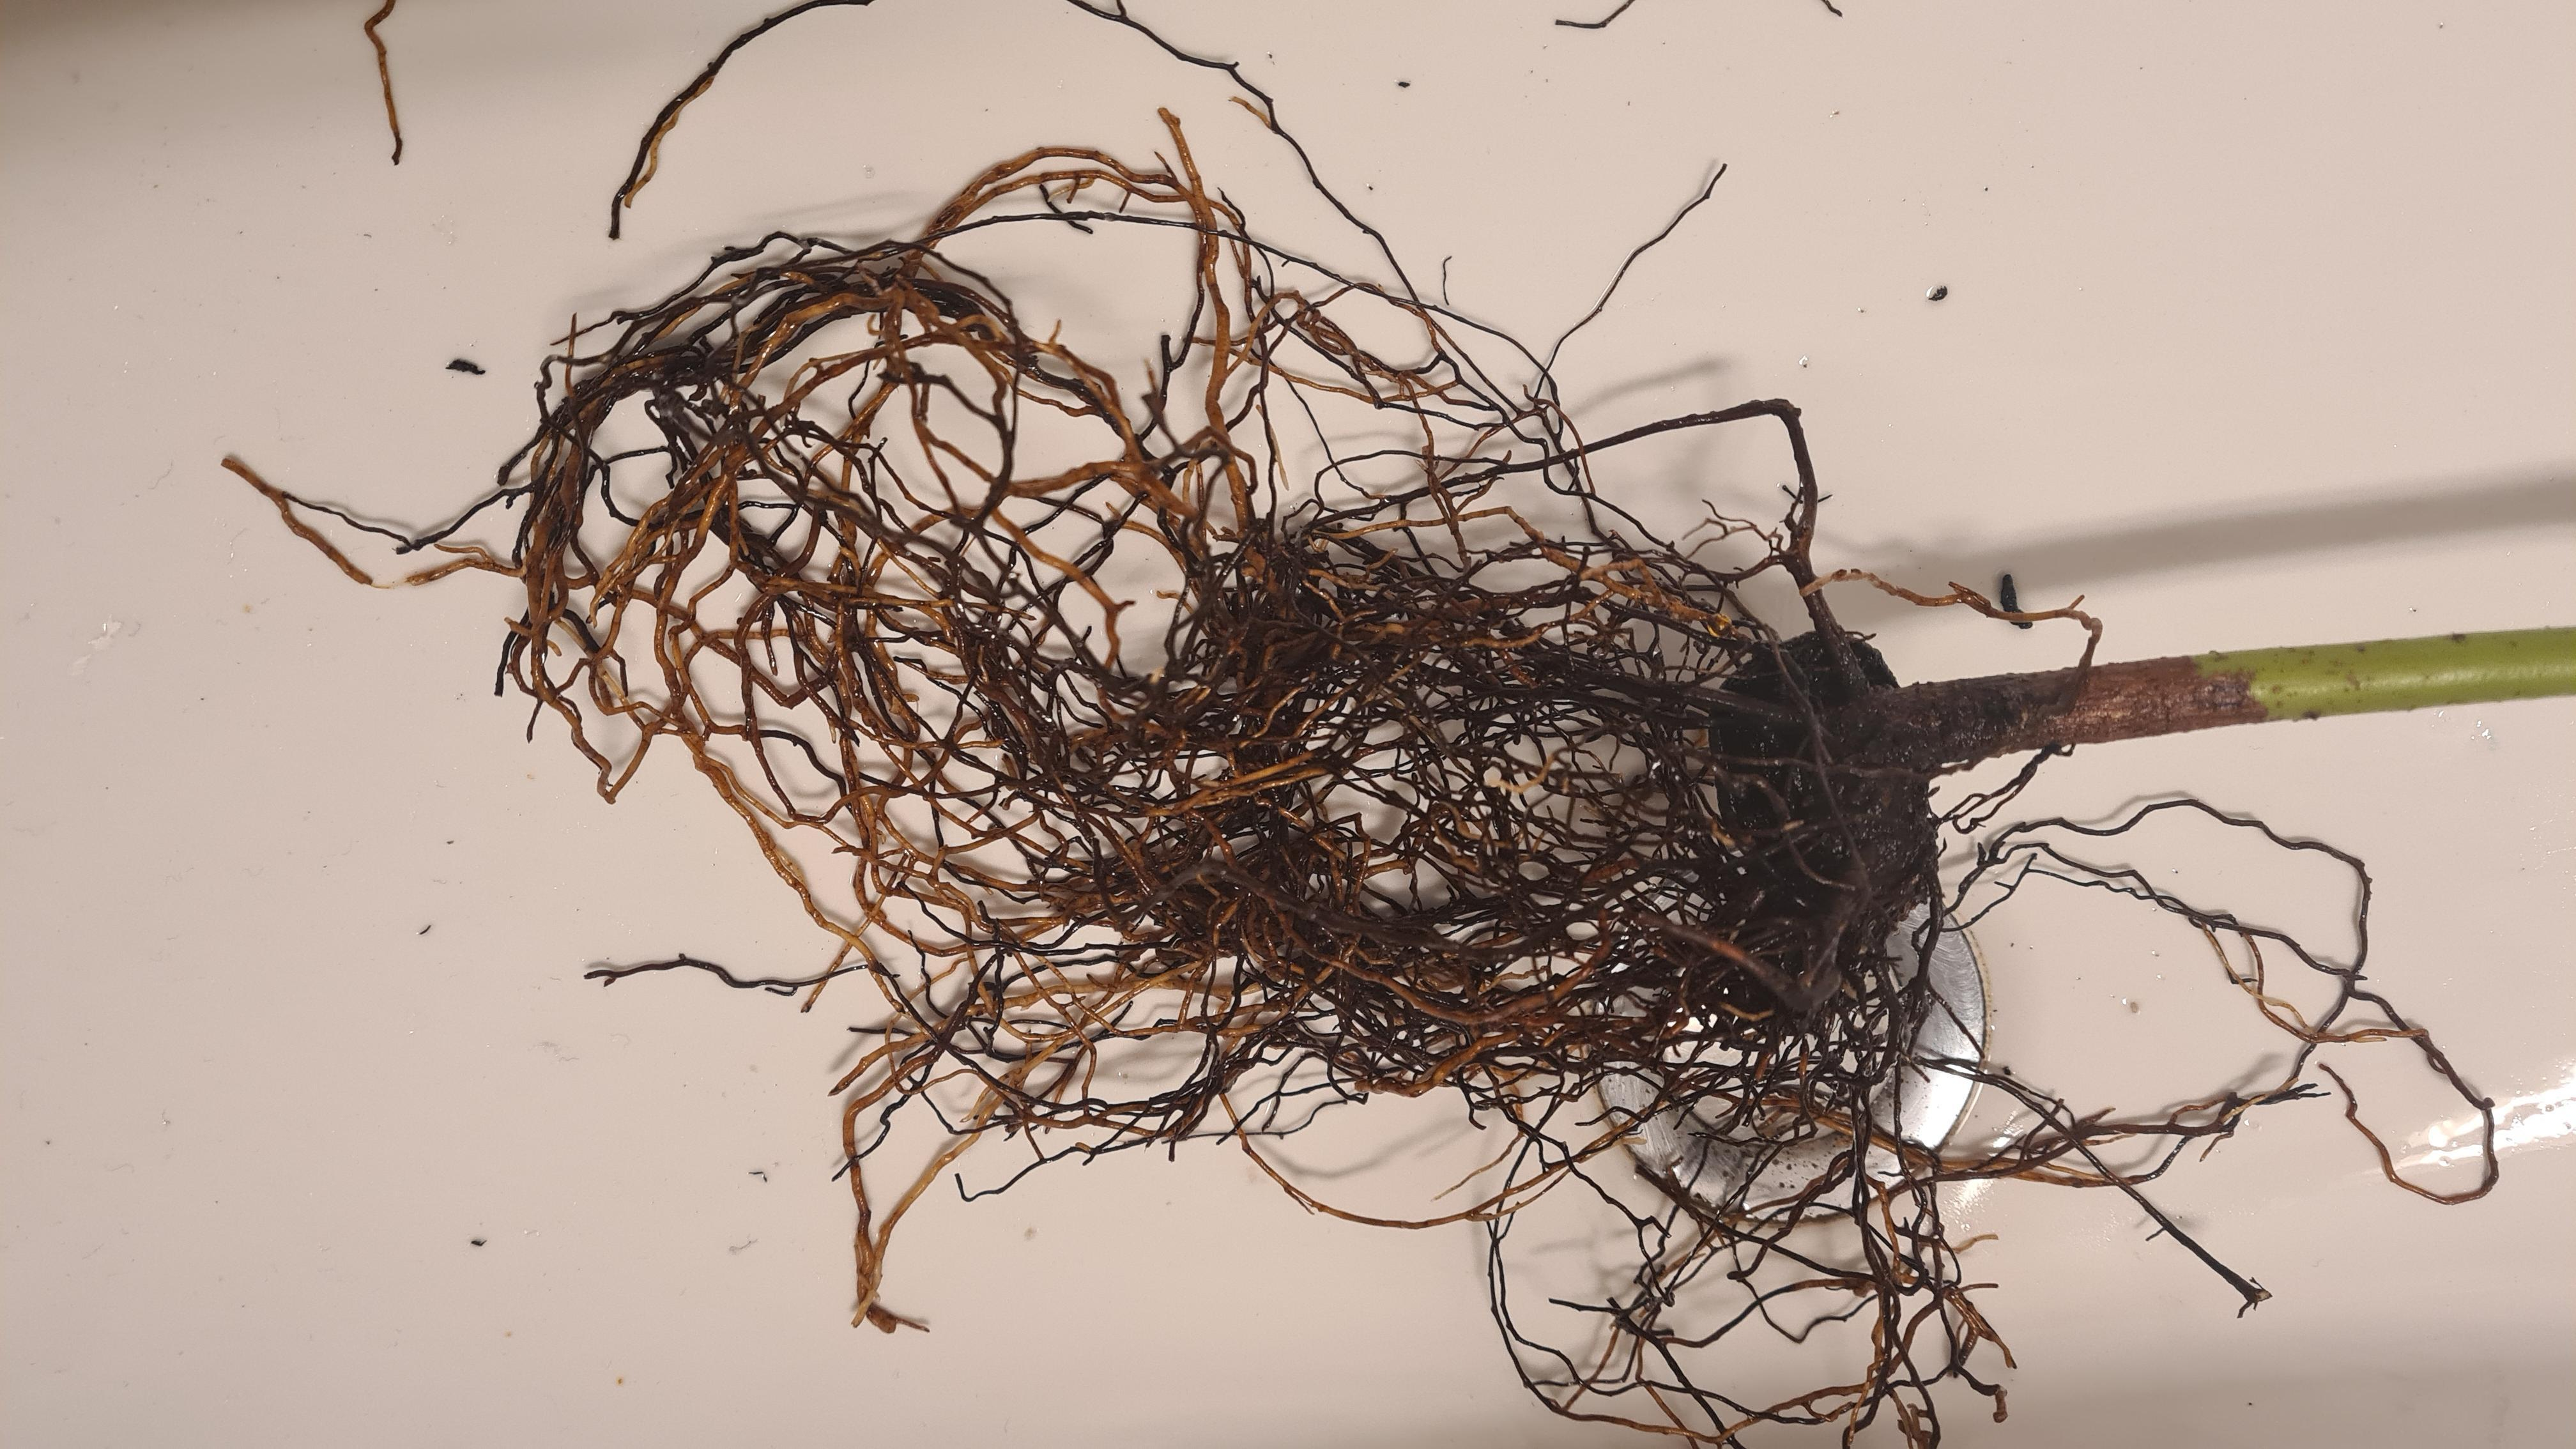root_rot: (278, 202, 2516, 1332)
